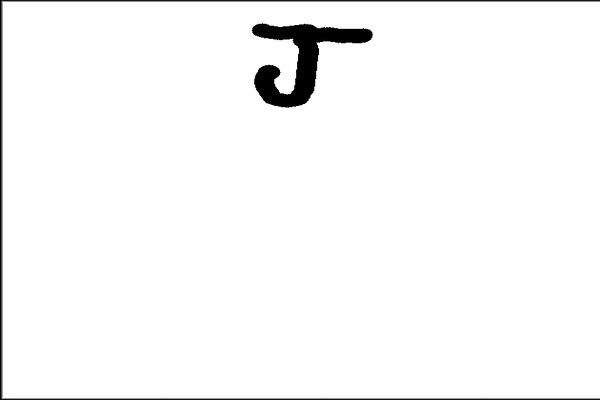J: (241, 14, 377, 115)
